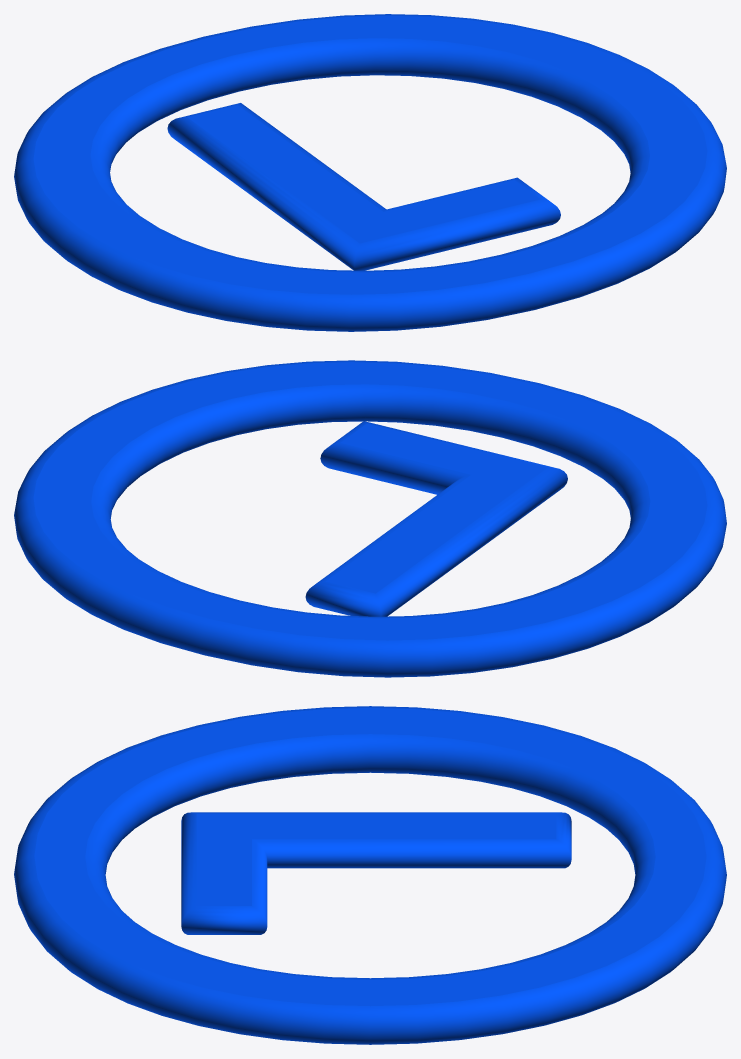
File: blue2.dae
3 views of the same model, one above another, from view 1: azimuth 30°, elevation 25°; view 2: azimuth 150°, elevation 25°; view 3: azimuth 270°, elevation 25° (orthographic). The views are drawn at different scales.
Parts seen in each view (by area): view 1: Text.001; view 2: Text.001; view 3: Text.001.
Boxes of the visible parts, box(x1,y1,x2,y2) form: Text.001: box(14, 14, 726, 331); Text.001: box(14, 360, 726, 677); Text.001: box(14, 706, 726, 1044).
Size of the model in its own units: 1.6 by 1.53 by 0.0875.
